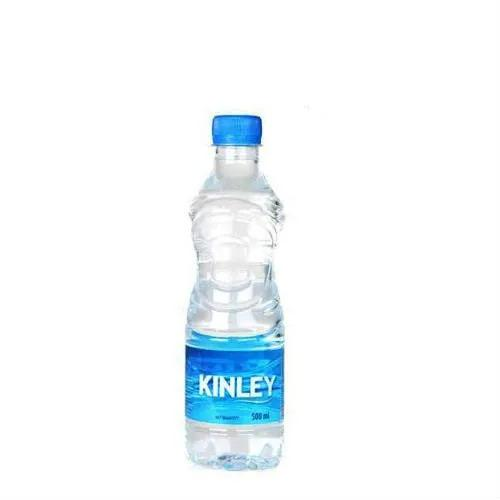plastic_bottle: (177, 109, 297, 476)
